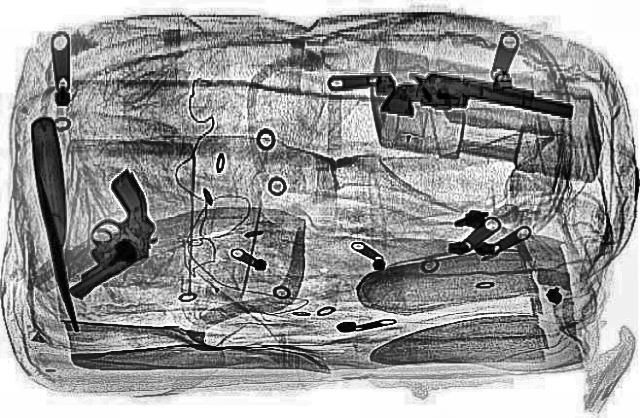Gun: (0, 168, 212, 294), (378, 64, 582, 146)
Knife: (27, 115, 81, 331)
